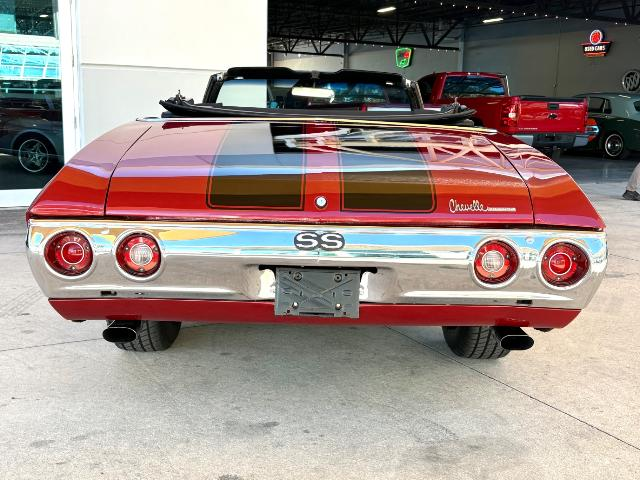chevelle-1972: (26, 67, 608, 359)
